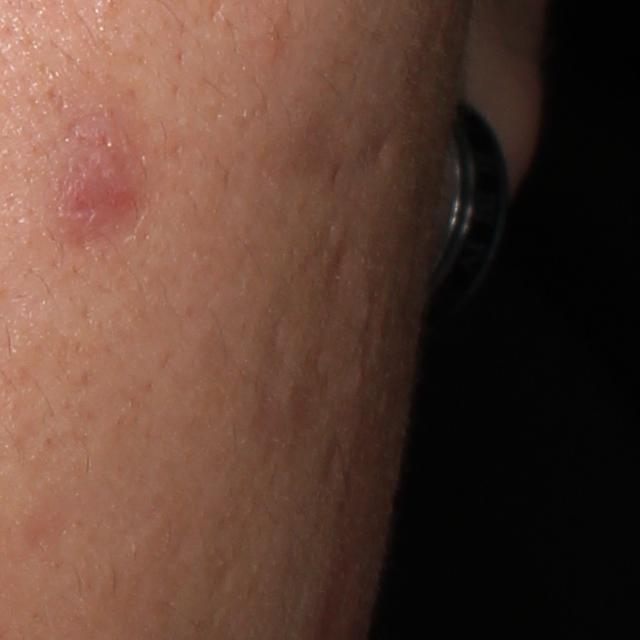atrophic_scar: (244, 307, 299, 471), (297, 335, 360, 449), (311, 221, 362, 320), (315, 430, 355, 508), (352, 125, 400, 182)
papule: (67, 151, 139, 237)
